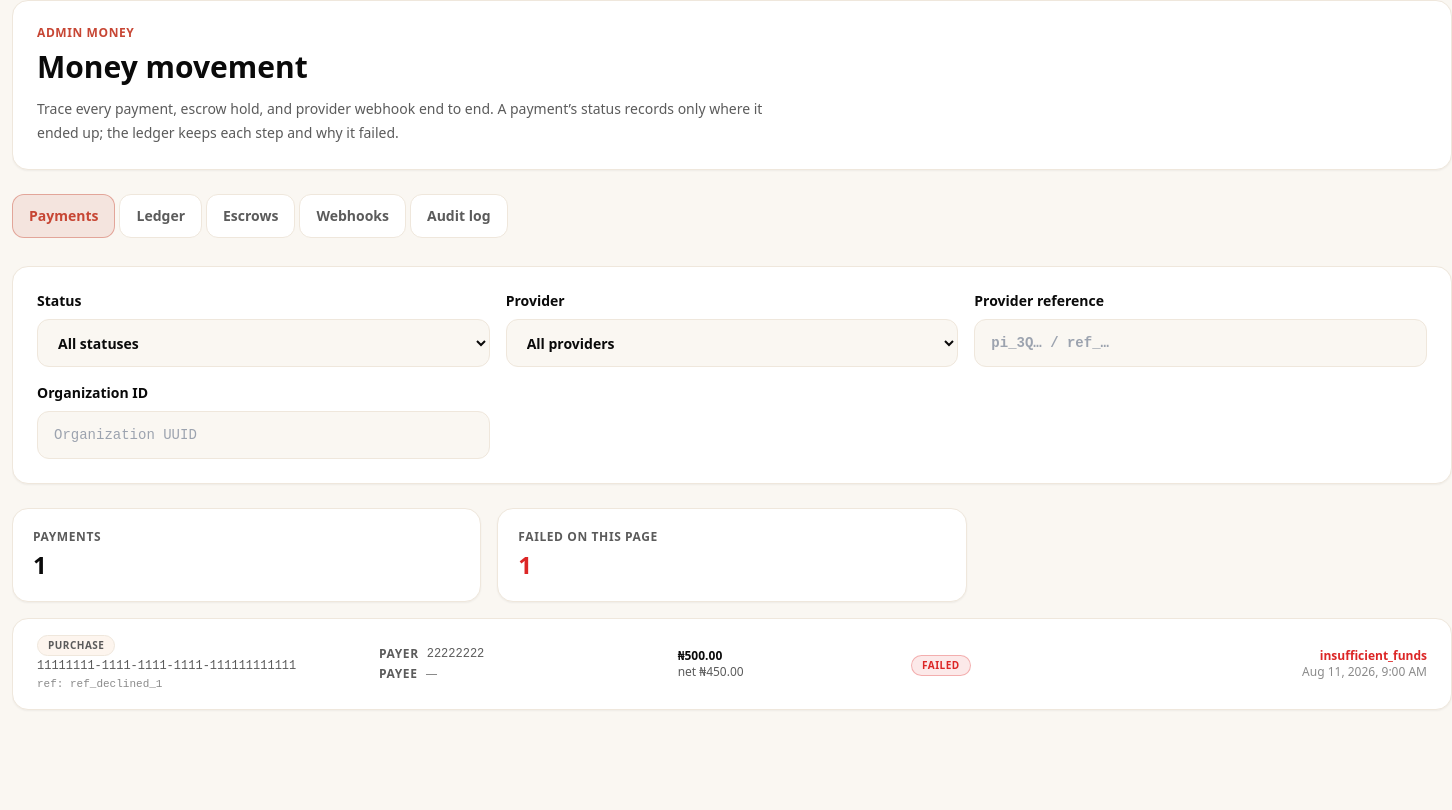
Test: AdminMoneyPanel › queries the webhook log and renders its stored delivery error
The image size is (1452, 810).
Expected: the text "insufficient_funds" is shown, [1320,647,1427,664]
What coordinates should you click on to do the following:
click the button "Webhooks"
I would click on:
 (353, 216)
Its box is [299,194,406,238].
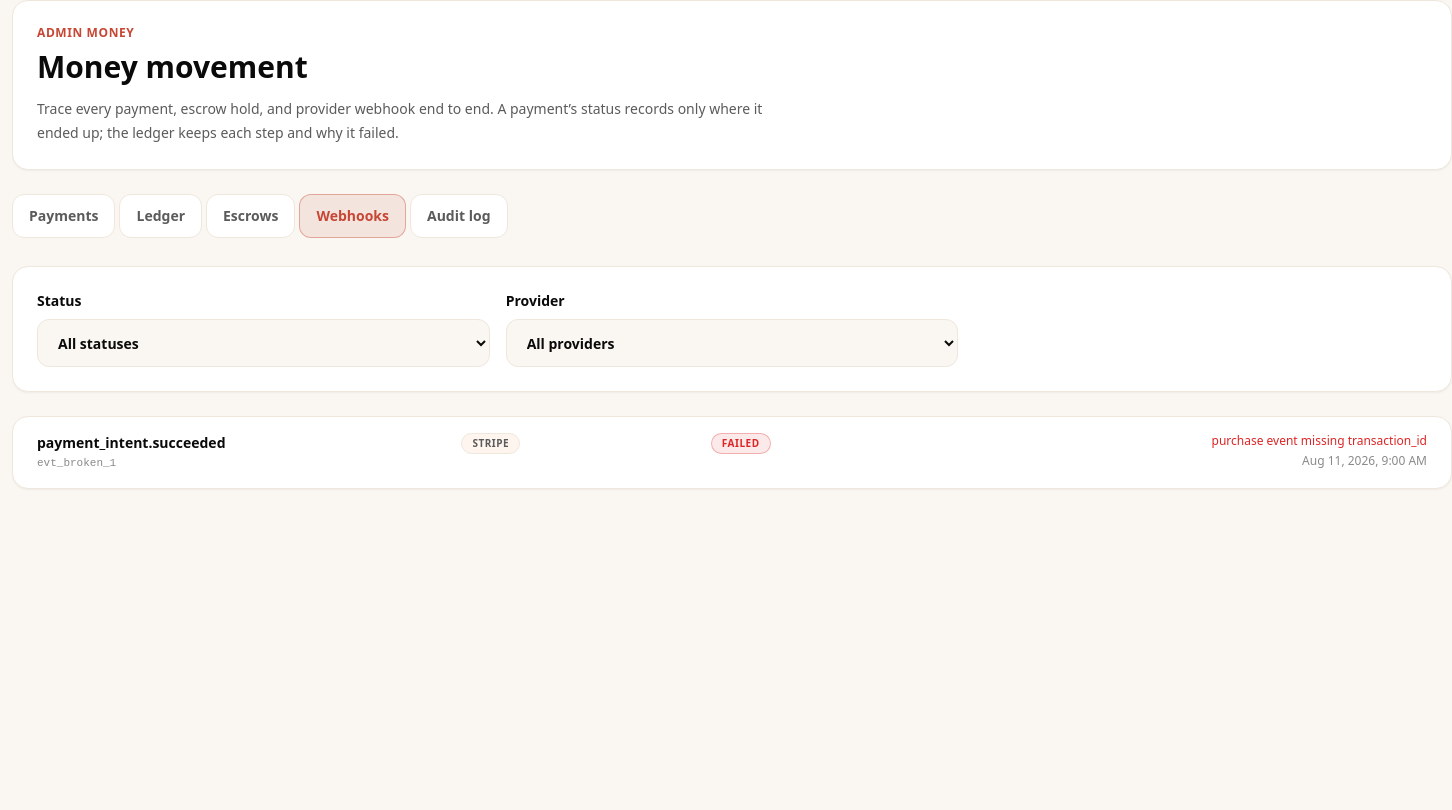
Expected: the text "purchase event missing transaction_id" is shown, [1212,432,1427,449]
